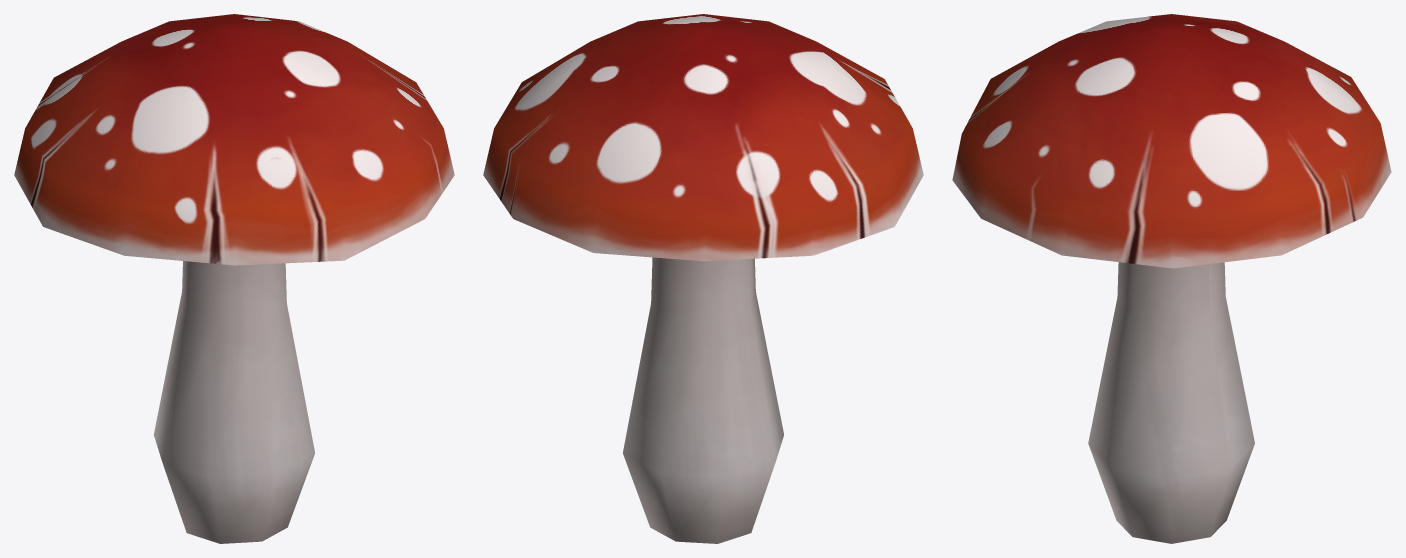
The model's file is Mushroom2A.fbx.
3 views of the same model, side by side, from view 1: azimuth 30°, elevation 25°; view 2: azimuth 150°, elevation 25°; view 3: azimuth 270°, elevation 25° (orthographic).
Parts seen in each view (by area): view 1: polySurface95; view 2: polySurface95; view 3: polySurface95.
Part boxes in pixels (x1=…): polySurface95: x1=14, y1=14, x2=454, y2=543; polySurface95: x1=483, y1=14, x2=923, y2=543; polySurface95: x1=952, y1=14, x2=1391, y2=543.
Bounding box in the file's own units: 46.97 × 57.78 × 46.87.
1 material, 1 textured.
